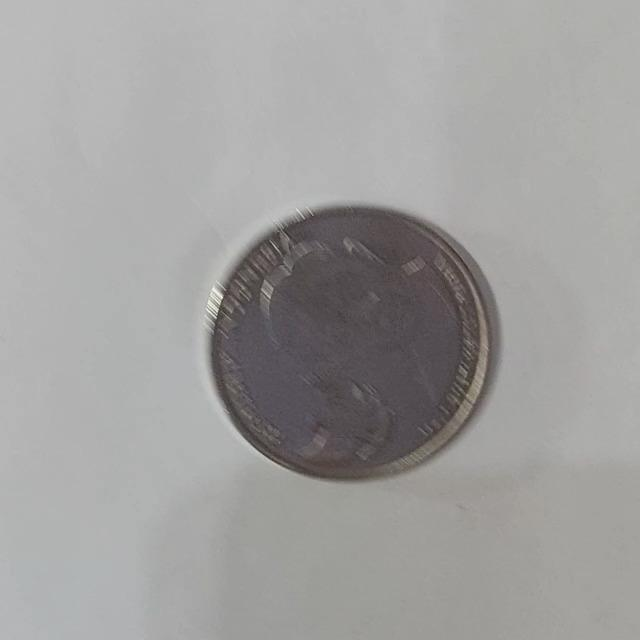Rp100: (203, 201, 493, 482)
